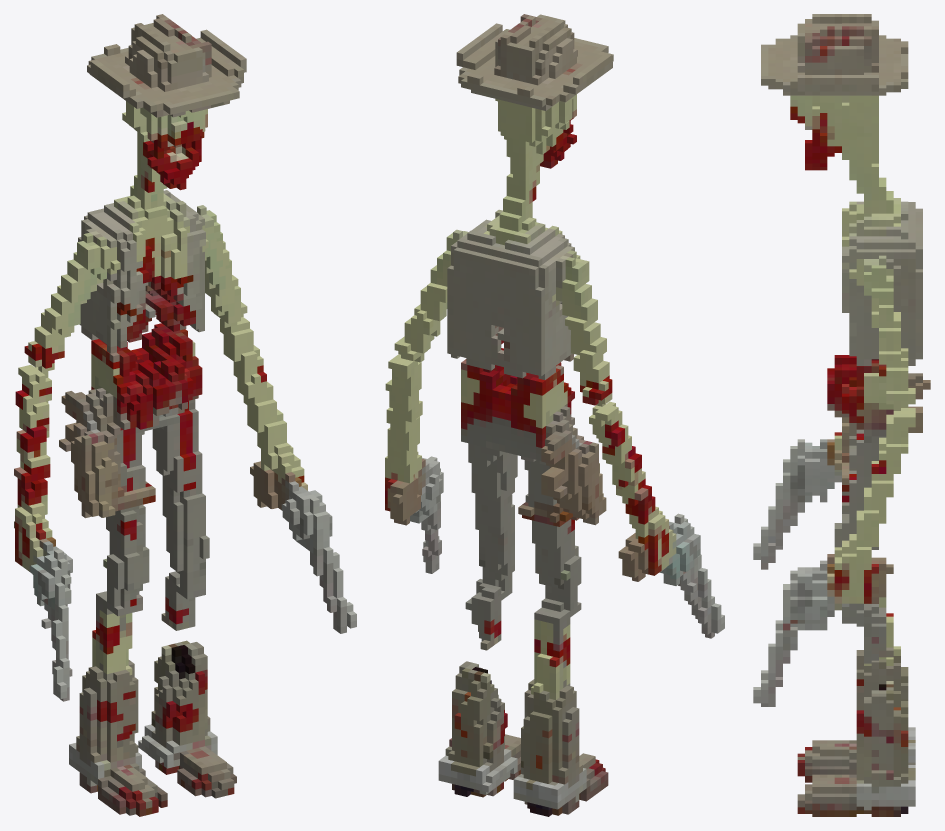
Rendered from gunslinger.rigged.glb.
The picture shows the model from 3 angles, left to right: view 1: azimuth 30°, elevation 25°; view 2: azimuth 150°, elevation 25°; view 3: azimuth 270°, elevation 25°; orthographic projection.
Parts seen in each view (by area): view 1: torso, head, armL_fore, legR_thigh, armR_fore, legR_shin, legL_thigh, legL_shin, footR, footL, armR_upper, armL_upper (+1 smaller); view 2: torso, head, armR_fore, legR_thigh, armL_fore, legR_shin, legL_thigh, legL_shin, armR_upper, footR, footL, armL_upper (+1 smaller); view 3: head, torso, armL_fore, footL, legL_shin, armR_fore, armL_upper, legL_thigh, legR_shin, footR, legR_thigh.
Boxes of the visible parts, x1,y1,x2,y2 form: torso: (61,172,208,416); head: (87,14,246,186); armL_fore: (211,304,356,633); legR_thigh: (59,395,155,594); armR_fore: (14,345,77,701); legR_shin: (79,581,142,742); legL_thigh: (152,388,209,573); legL_shin: (154,568,207,722); footR: (69,726,167,816); footL: (138,694,236,798); armR_upper: (28,220,106,361); armL_upper: (197,205,246,316); torso: (447,160,579,464); head: (456,14,613,200); armR_fore: (580,385,724,638); legR_thigh: (518,408,606,602); armL_fore: (385,341,443,573); legR_shin: (521,591,581,757); legL_thigh: (461,422,517,585); legL_shin: (452,573,512,738); armR_upper: (545,250,612,392); footR: (513,745,608,816); footL: (438,728,520,797); armL_upper: (398,229,468,351); head: (761,14,908,180); torso: (805,163,930,416); armL_fore: (753,391,915,706); footL: (797,747,915,816); legL_shin: (842,603,908,763); armR_fore: (753,432,841,569); armL_upper: (864,249,915,393); legL_thigh: (842,416,886,549); legR_shin: (856,597,908,710); footR: (797,727,915,782); legR_thigh: (834,406,922,547).
Size of the model in its own units: 0.775 by 1.9 by 0.3957.
